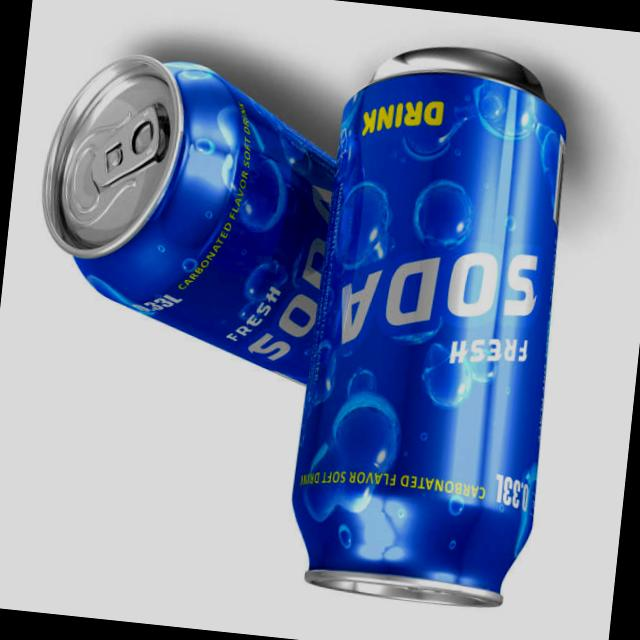can: (280, 32, 588, 618), (19, 39, 338, 388)
